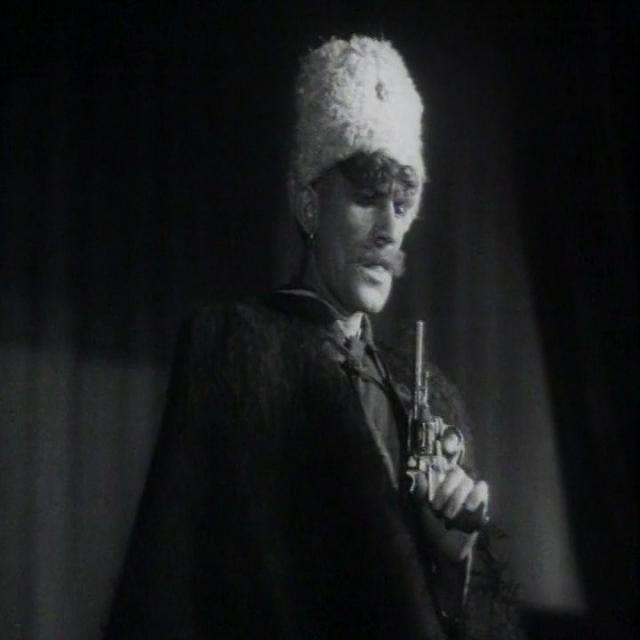gun-knife-thesis - v11 Yolov5 augmented: (400, 313, 493, 529)
